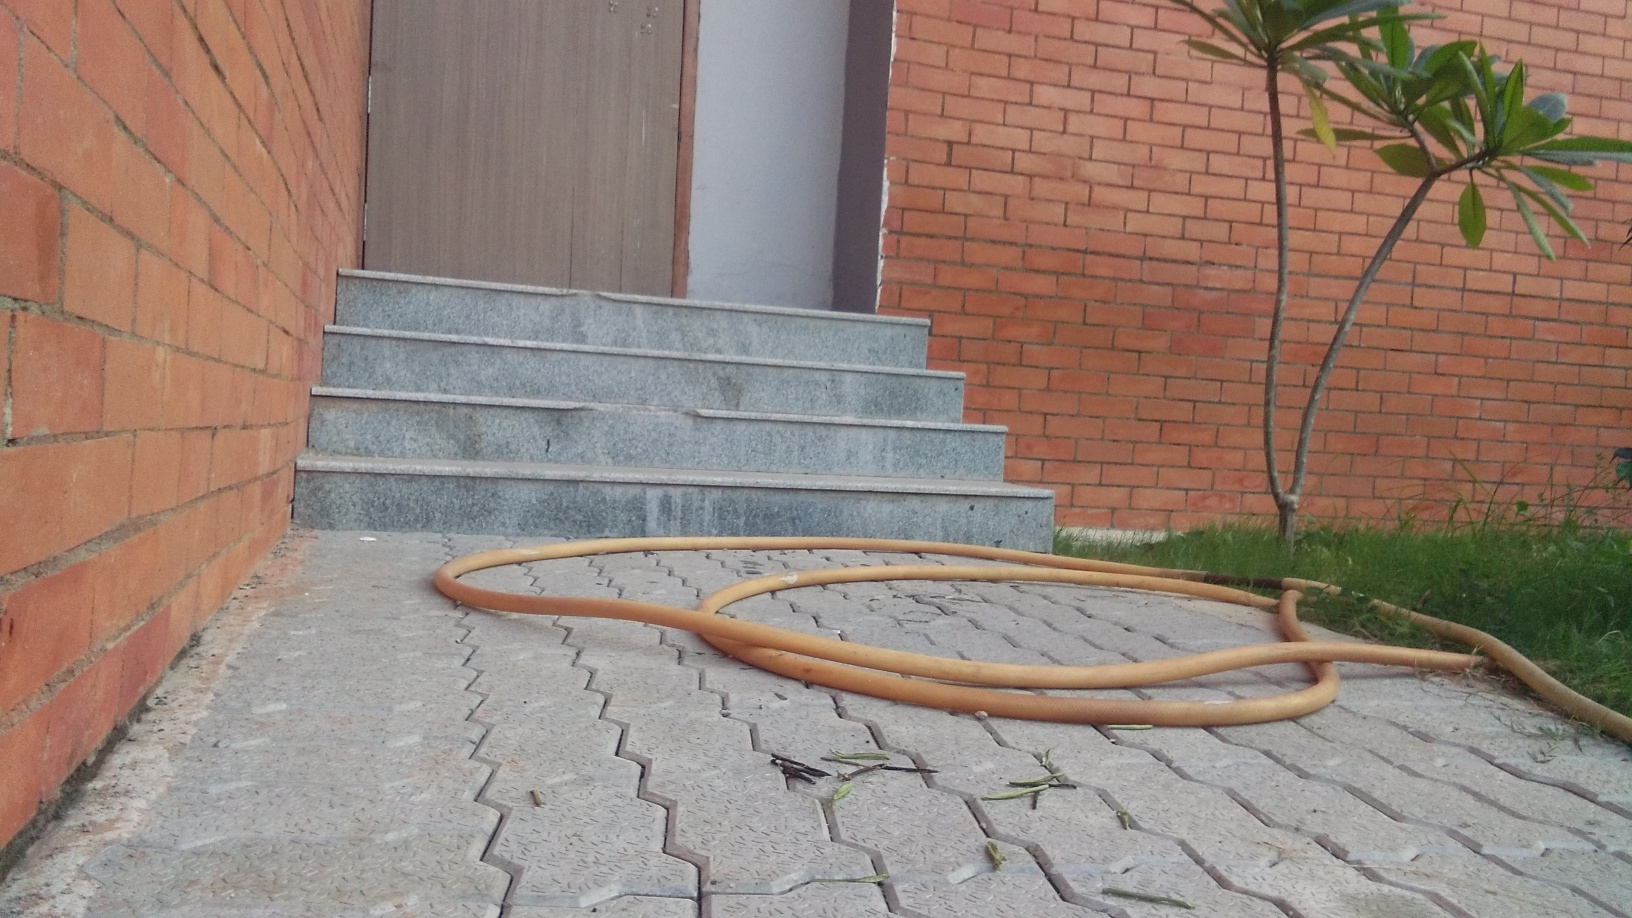stairs_up: (319, 258, 1027, 545)
